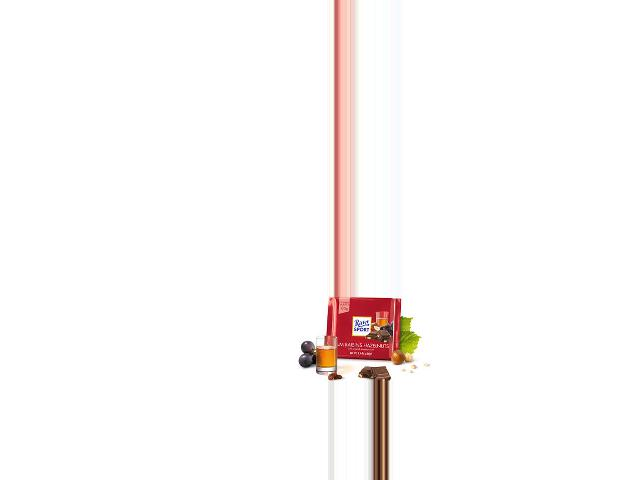chocolate: (328, 298, 403, 360)
